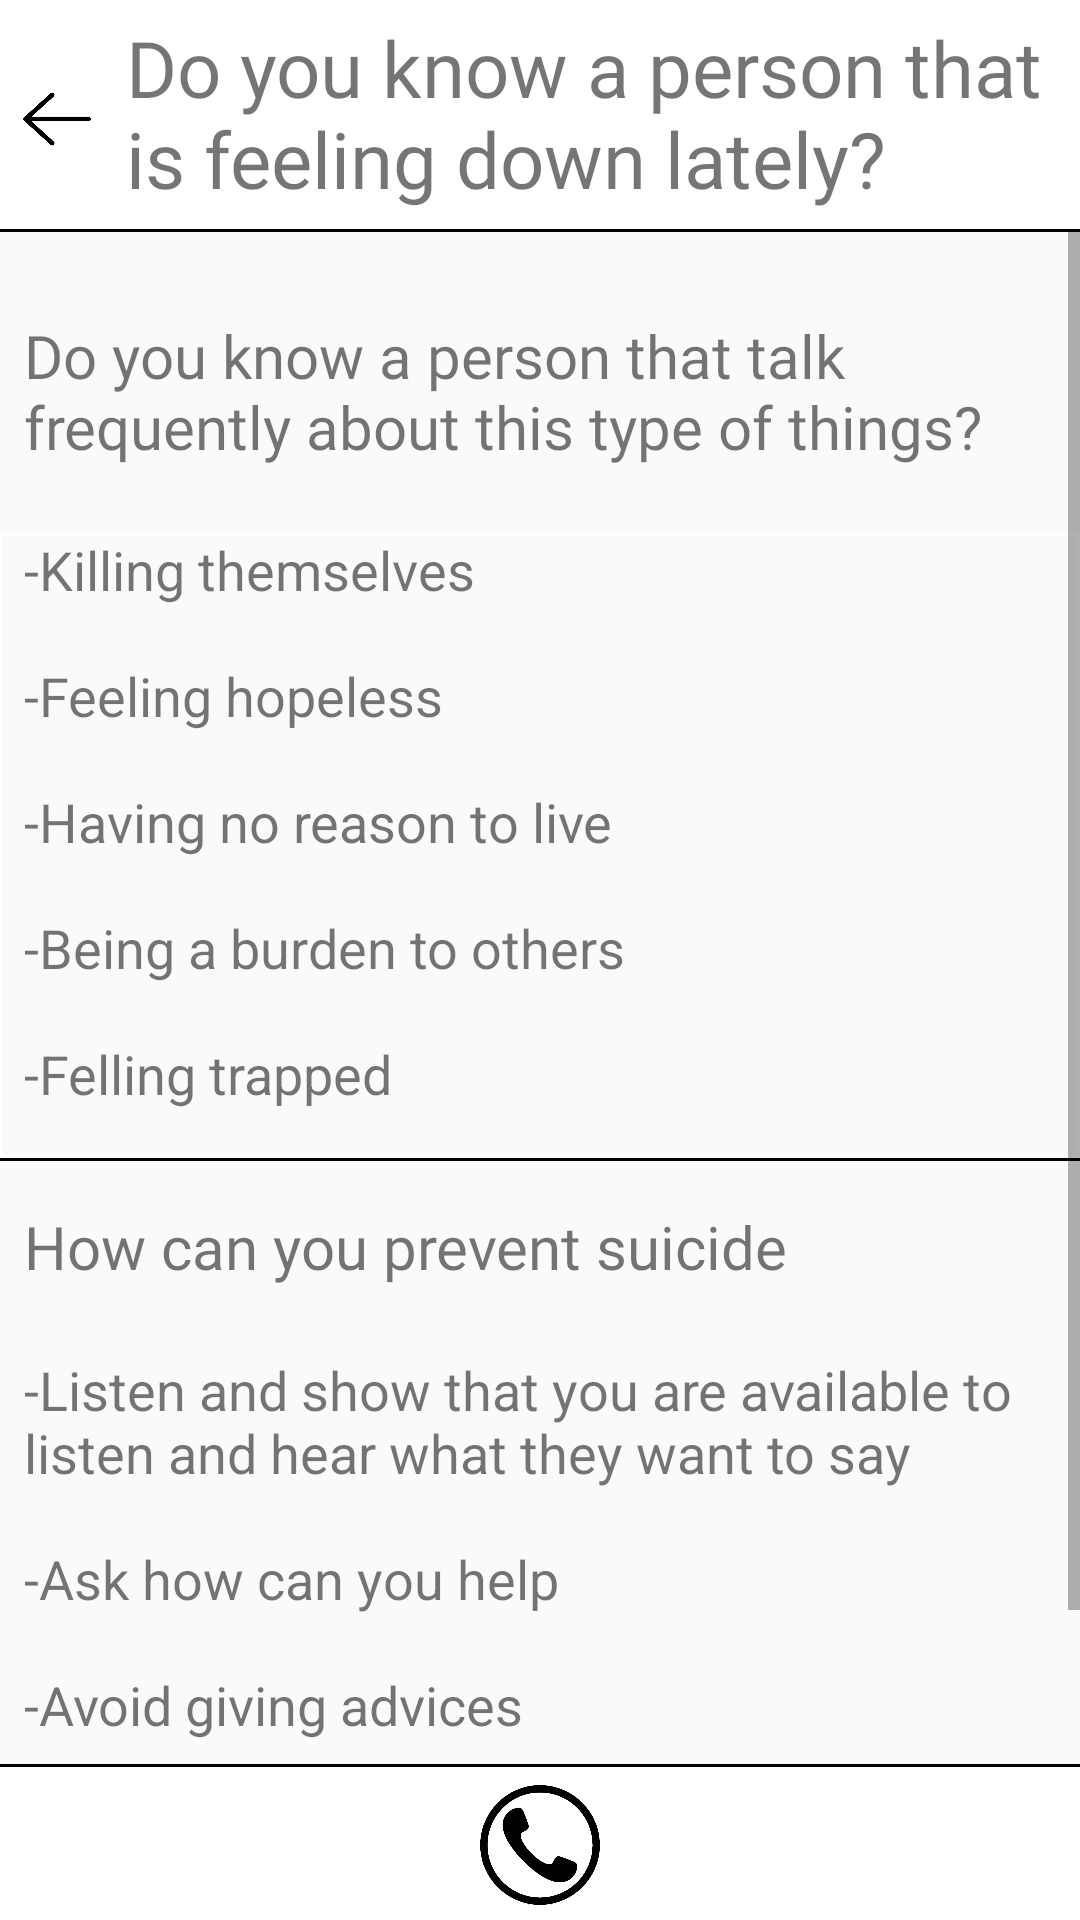

Icons on this 1080px×1920px Android screen, each with the point to tap as (x,y):
back arrow: (57,119)
phone: (540,1845)
